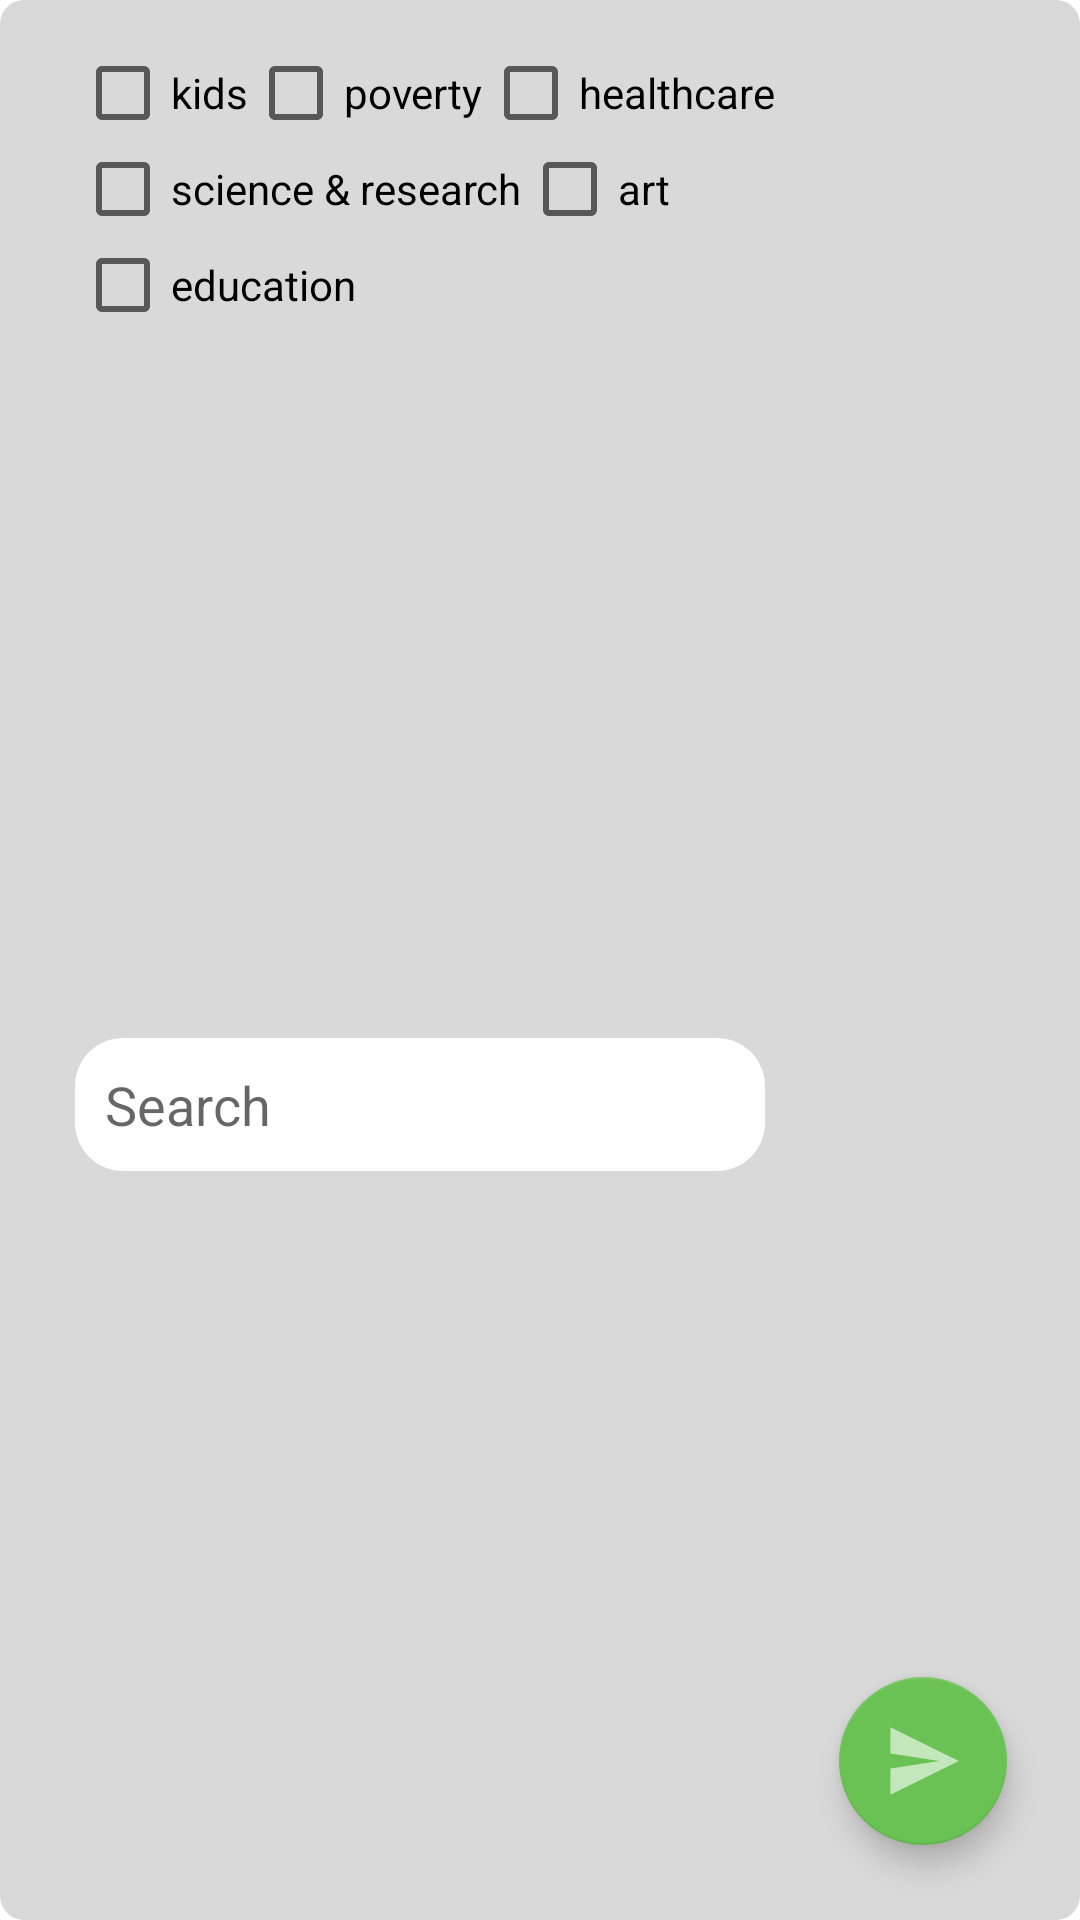

Icon click points for this 1080×1920 phone screenshot, format point (x, y):
send search: point (923, 1761)
